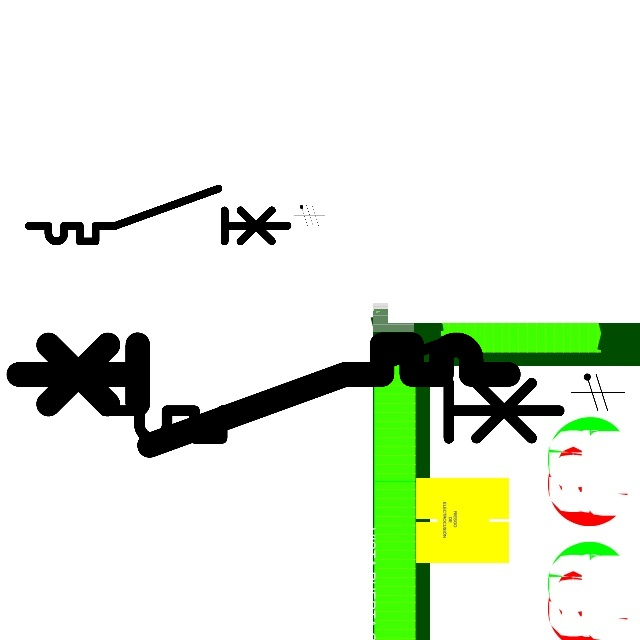interruptor_termomagnetico: (6, 332, 521, 458), (93, 333, 571, 450), (22, 182, 294, 248)
